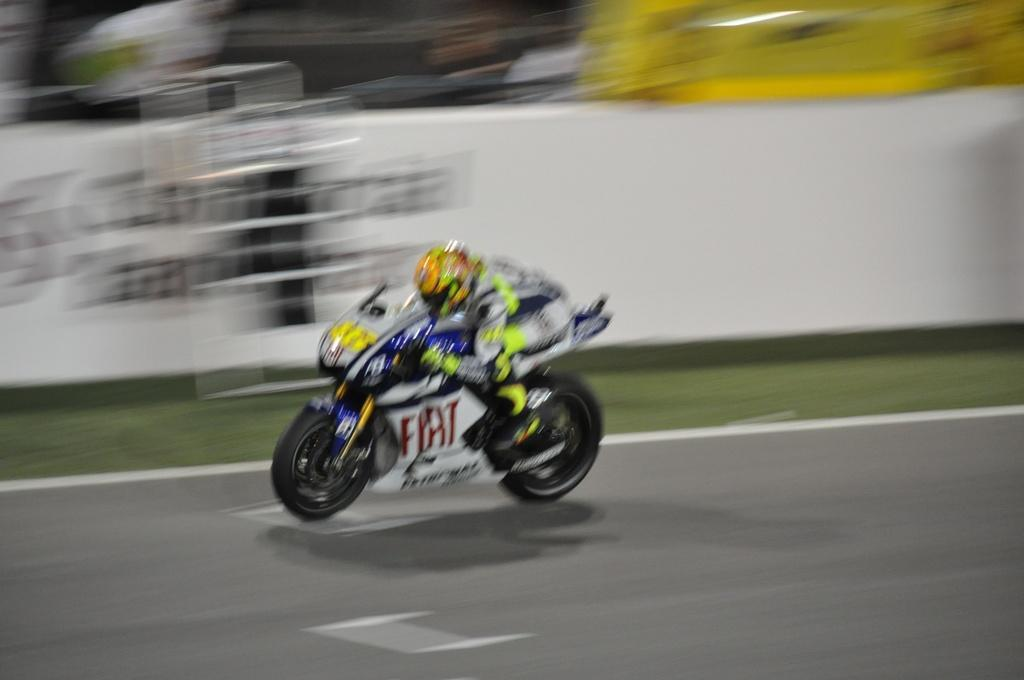helmet: (413, 239, 482, 320)
